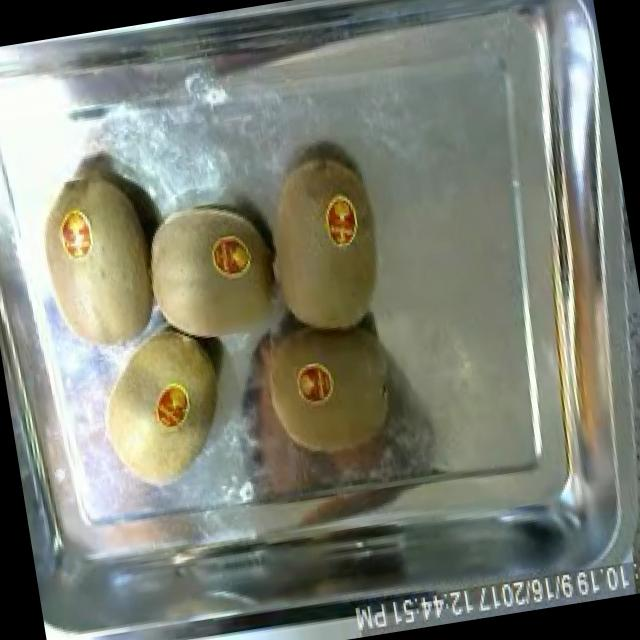Fruit: (80, 310, 242, 504), (19, 174, 179, 370), (244, 143, 392, 347), (132, 185, 287, 364)
